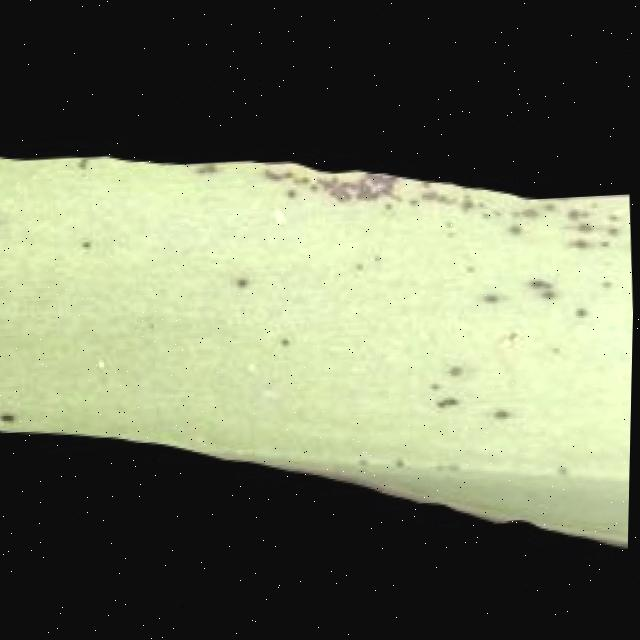mite: (243, 144, 634, 444), (422, 197, 635, 433), (0, 149, 114, 433), (0, 195, 24, 429), (430, 358, 473, 413), (71, 227, 106, 260), (0, 398, 29, 433), (529, 273, 564, 301), (444, 355, 474, 383), (433, 390, 468, 413), (490, 401, 520, 425), (233, 270, 258, 293), (481, 286, 508, 306), (0, 406, 24, 426), (529, 276, 556, 292), (78, 234, 101, 252), (438, 395, 463, 410), (495, 407, 515, 422), (449, 363, 469, 378), (483, 291, 503, 304), (2, 411, 19, 424), (576, 305, 593, 318), (238, 275, 253, 288), (81, 237, 96, 250), (281, 336, 296, 348), (0, 213, 3, 232)
